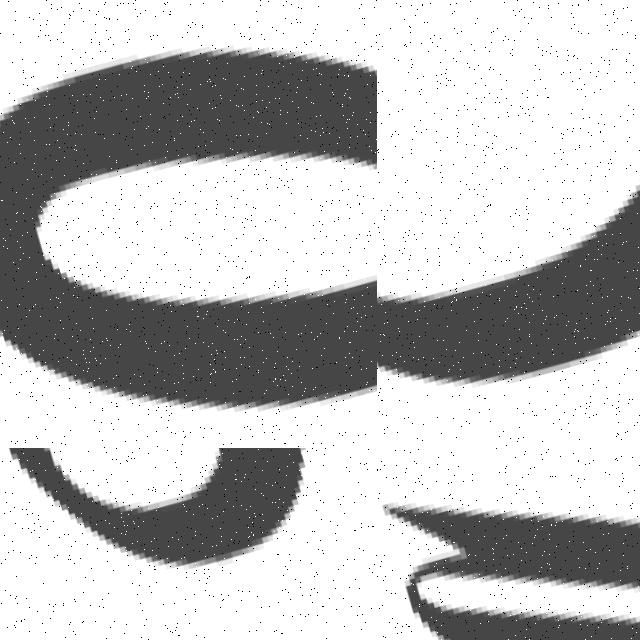0: (0, 0, 377, 448)
C: (377, 184, 640, 380)
Q: (377, 448, 640, 640)
S: (0, 448, 377, 640)
